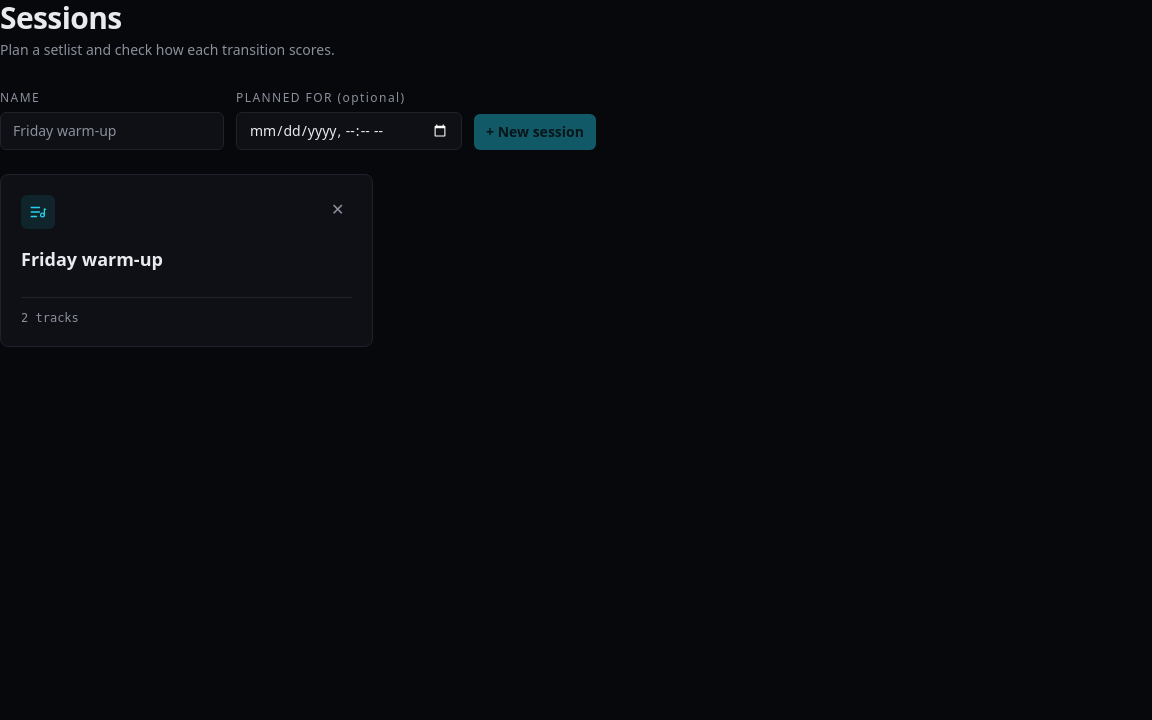
Test: Sessions › asks before deleting a session
Click the button named "delete friday warm-up" at (338, 209), box [323,195,352,223]
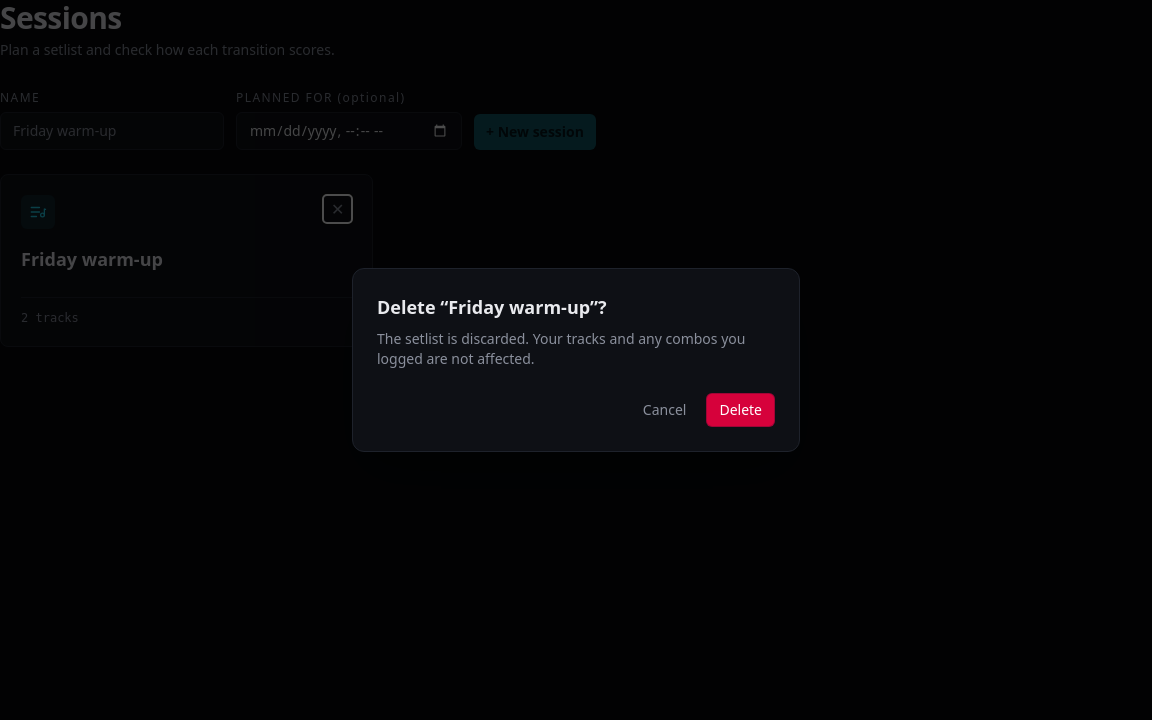
Expected: the dialog is shown
